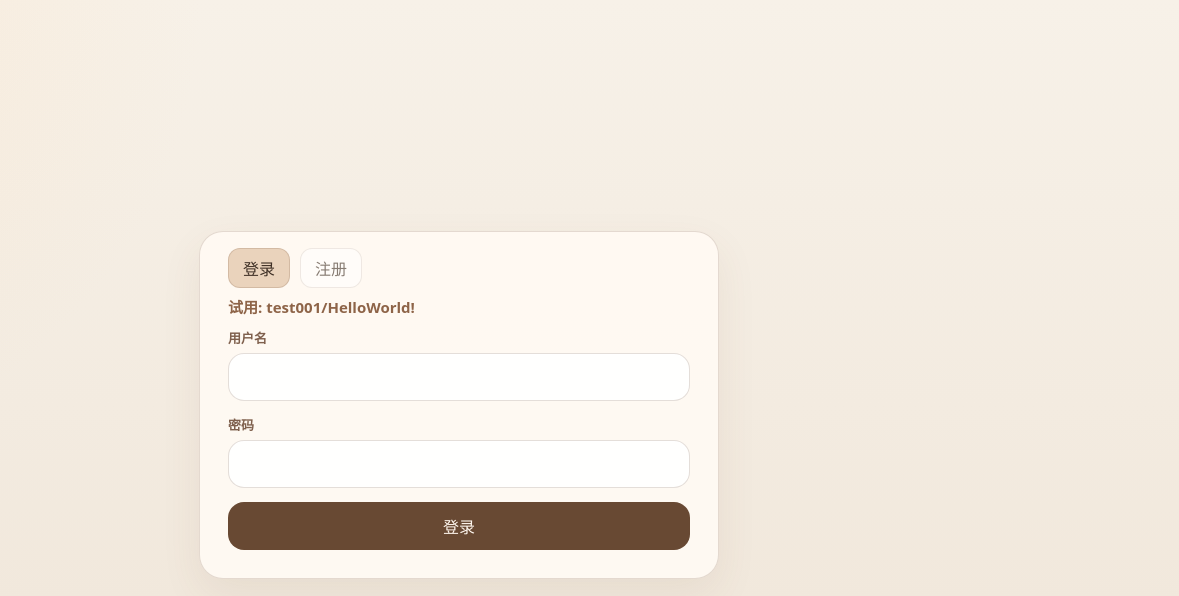
LoginPage › shows toast instead of switching to register flow
Step 1. Click the button "注册" → (331, 268), box 300,248 -> 362,288
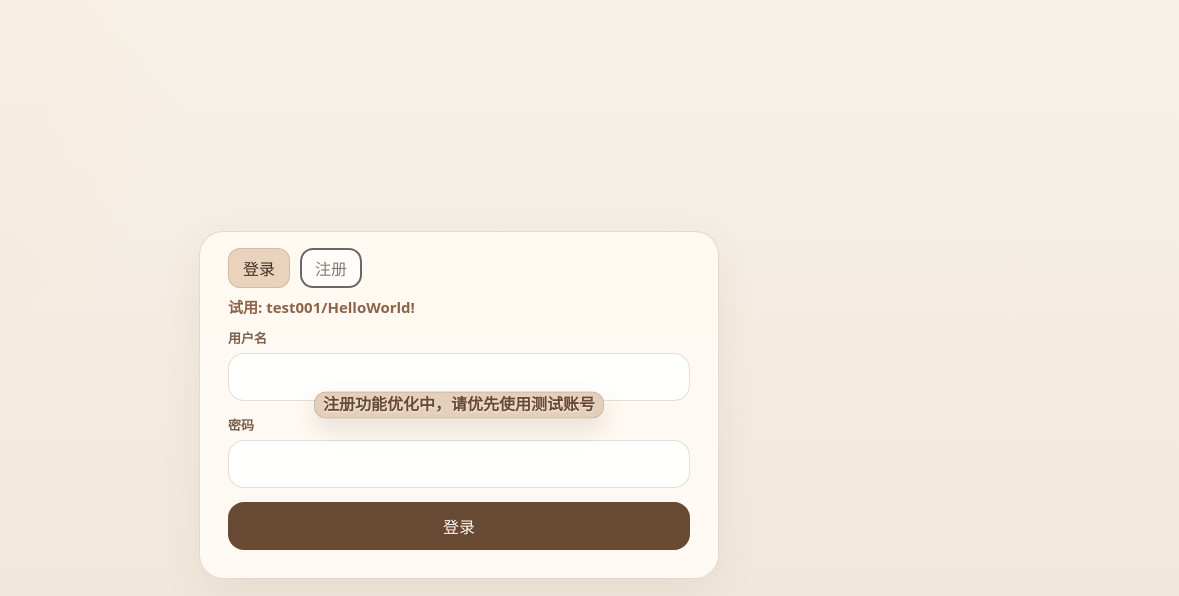
Result: the text "注册功能优化中，请优先使用测试账号" is shown at 323,395 -> 595,415
